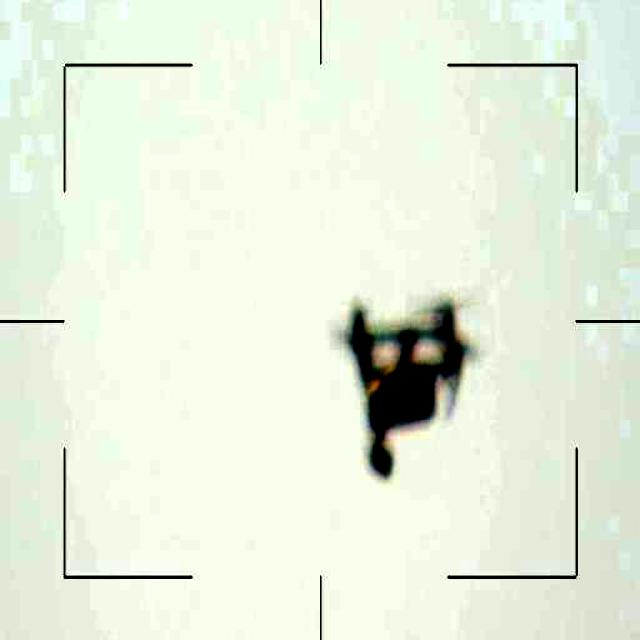bird: (336, 289, 488, 492)
